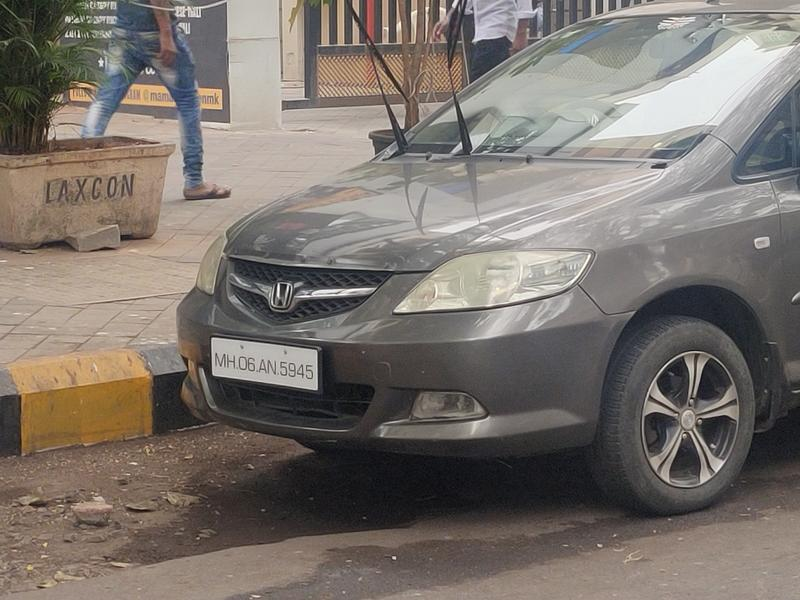license_plate: (208, 328, 329, 395)
